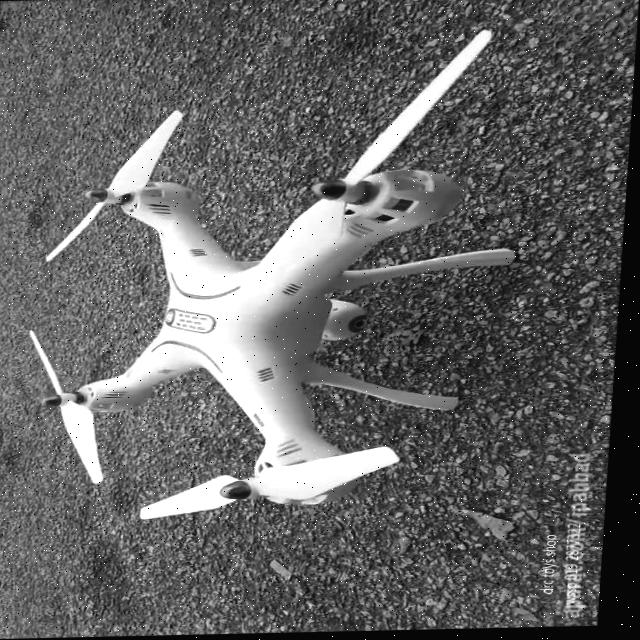drone: (18, 26, 537, 528)
